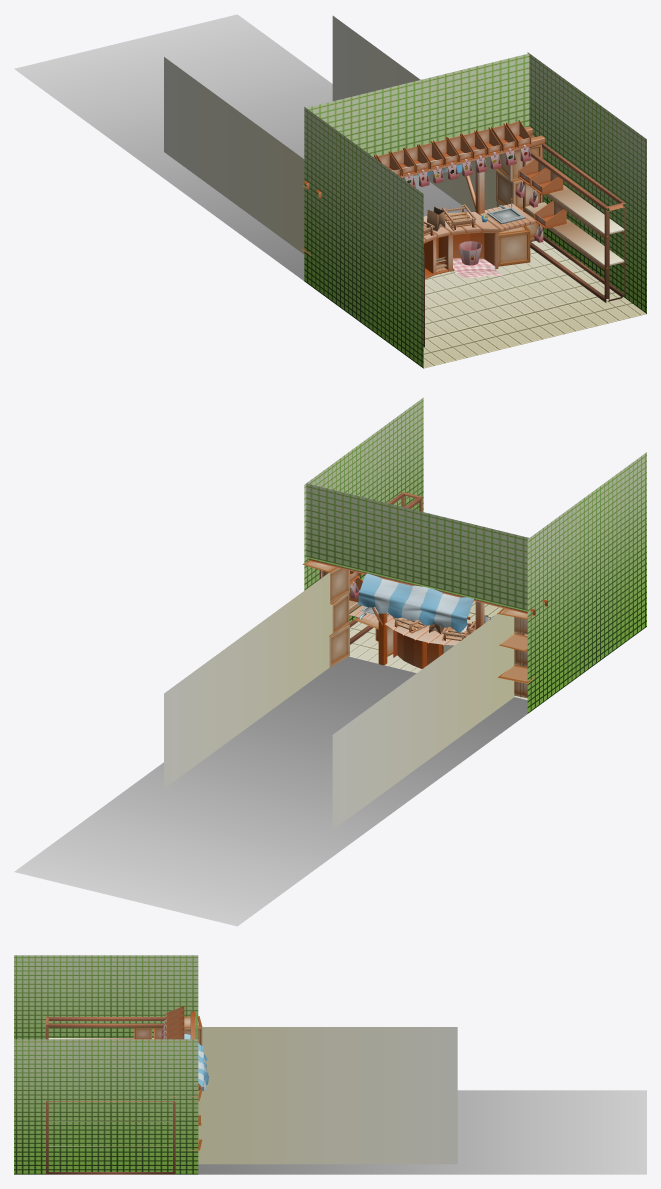
File: FreshFruitsOptimizeNLA (1).fbx
3 views of the same model, one above another, from view 1: azimuth 30°, elevation 25°; view 2: azimuth 150°, elevation 25°; view 3: azimuth 270°, elevation 25° (orthographic). The views are drawn at different scales.
Parts seen in each view (by area): view 1: StabilEnvironment, PearRight.001, PineappleRight.001, OrangeRight.001; view 2: StabilEnvironment; view 3: StabilEnvironment.
Boxes of the visible parts, left/top/right/bottom form: StabilEnvironment: left=14, top=14, right=646, bottom=368; PearRight.001: left=534, top=201, right=566, bottom=228; PineappleRight.001: left=530, top=168, right=563, bottom=194; OrangeRight.001: left=442, top=204, right=476, bottom=230; StabilEnvironment: left=14, top=397, right=646, bottom=926; StabilEnvironment: left=14, top=955, right=646, bottom=1174.
Bounding box in the file's own units: 7.53 × 5.51 × 23.36.
1 material, 1 textured.
